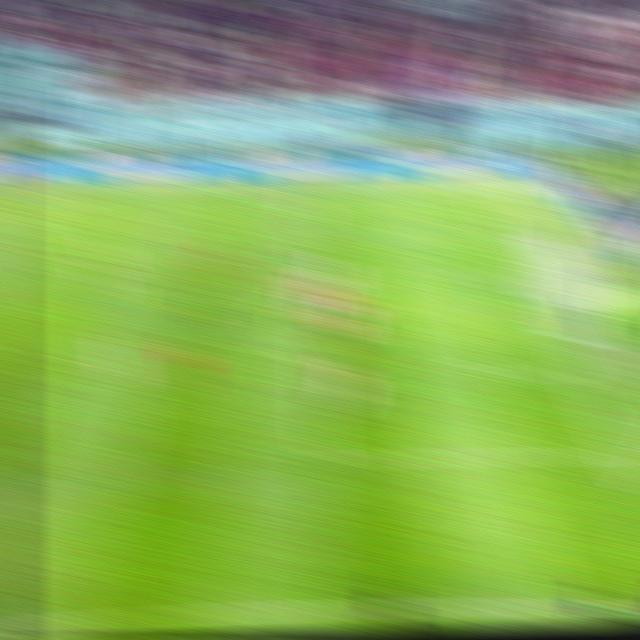bigarea_bottom_inner: (300, 444, 343, 473)
bigarea_bottom_outter: (599, 442, 637, 468)
bigarea_top_inner: (297, 229, 332, 251)
bigarea_top_outter: (485, 223, 520, 244)
bottom_arc_area_intersection: (298, 355, 337, 379)
corner: (463, 183, 500, 201)
smallarea_bottom_inner: (467, 355, 509, 387)
smallarea_bottom_outter: (555, 357, 594, 385)
smallarea_top_inner: (437, 266, 475, 290)
smallarea_top_outter: (506, 262, 542, 287)
